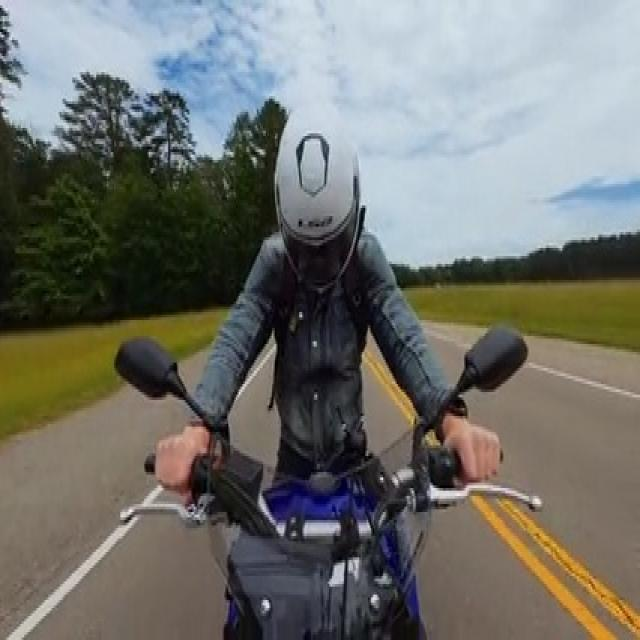Helmet_Wearer: (258, 102, 371, 278)
Person: (147, 100, 497, 506)
